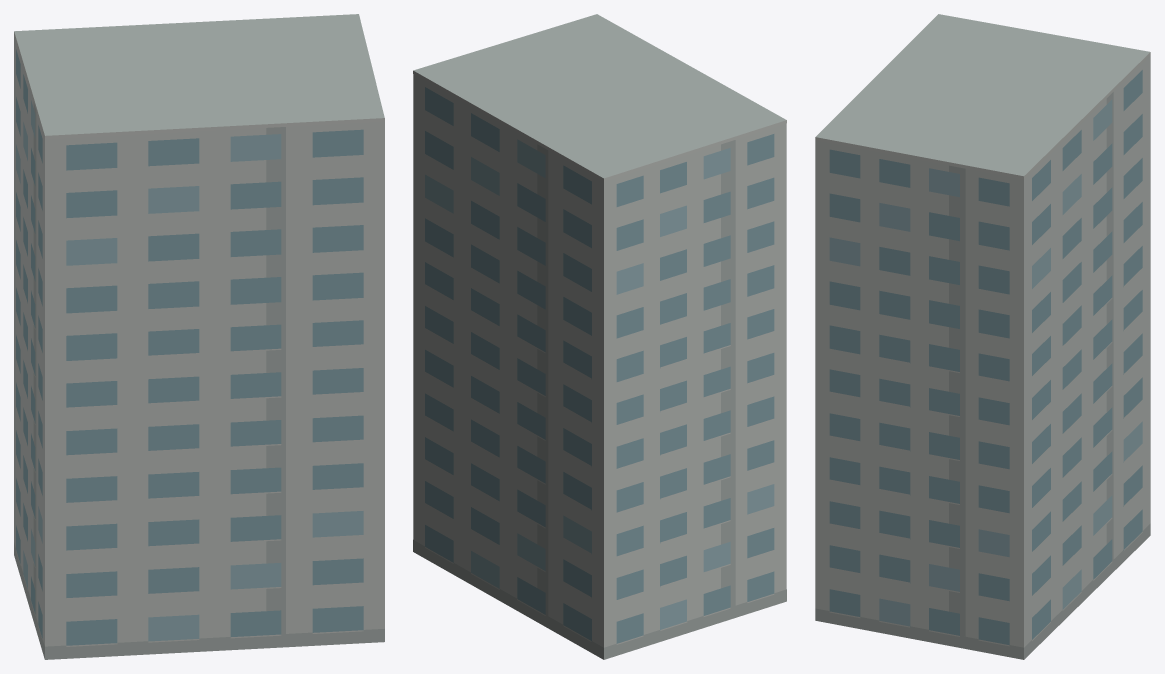
Rendered from residential-228fadc9-acf1-4a76-b8d1-600aa29ec5b8.glb.
The picture shows the model from 3 angles, left to right: view 1: azimuth 30°, elevation 25°; view 2: azimuth 150°, elevation 25°; view 3: azimuth 270°, elevation 25°; orthographic projection. The views are drawn at different scales.
Visible parts, largest first — view 1: residential-228fadc9-acf1-4a76-b8d1-600aa29ec5b8.tmp; view 2: residential-228fadc9-acf1-4a76-b8d1-600aa29ec5b8.tmp; view 3: residential-228fadc9-acf1-4a76-b8d1-600aa29ec5b8.tmp.
Part boxes in pixels (x1,y1,x2,y2): residential-228fadc9-acf1-4a76-b8d1-600aa29ec5b8.tmp: (14,14,384,659); residential-228fadc9-acf1-4a76-b8d1-600aa29ec5b8.tmp: (413,14,786,659); residential-228fadc9-acf1-4a76-b8d1-600aa29ec5b8.tmp: (815,14,1150,659).
Bounding box in the file's own units: 25.2 × 35 × 22.
